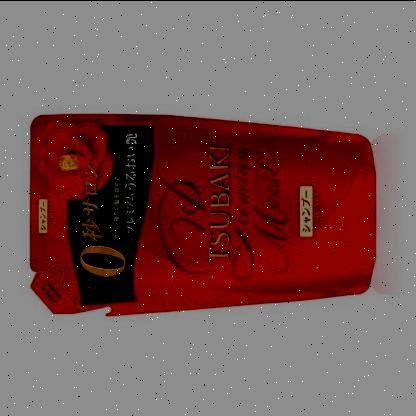Others: (26, 111, 382, 322)
